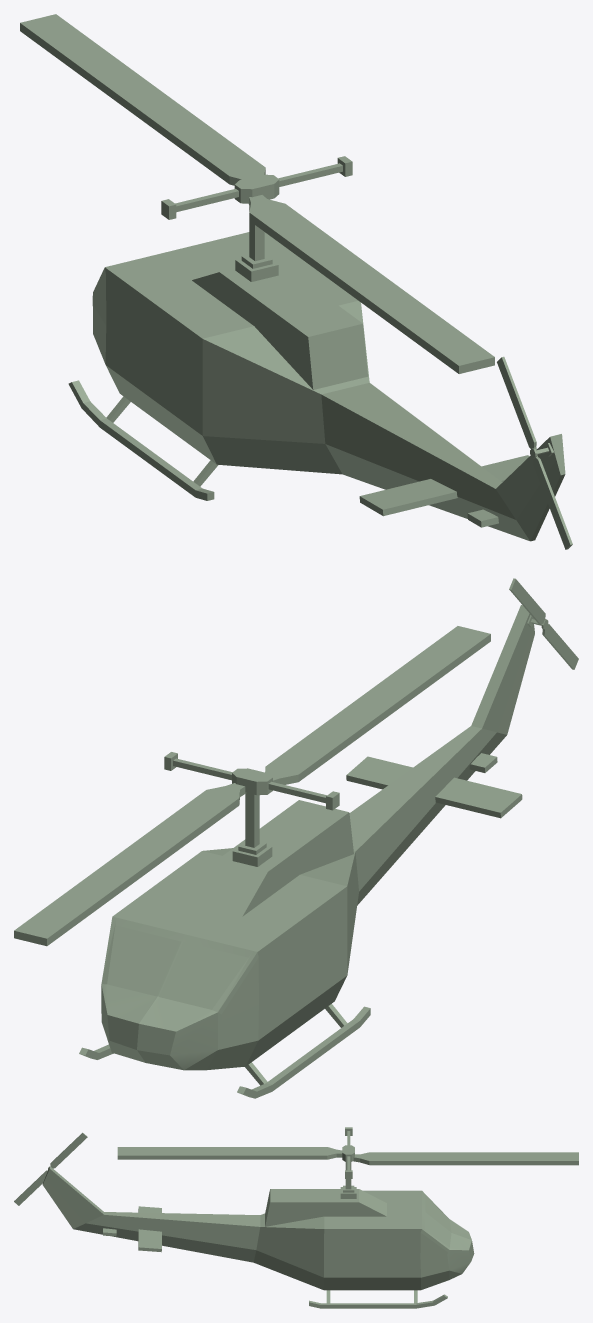
The model's file is small_heli.fbx.
The picture shows the model from 3 angles, top to bottom: view 1: azimuth 30°, elevation 25°; view 2: azimuth 150°, elevation 25°; view 3: azimuth 270°, elevation 25°; orthographic projection. The views are drawn at different scales.
Parts seen in each view (by area): view 1: small_heli, rotor_main, rotor_tail; view 2: small_heli, rotor_main, rotor_tail; view 3: small_heli, rotor_main, rotor_tail.
Part boxes in pixels (box(x1,y1,x2,y2)): small_heli: box(68, 232, 565, 541); rotor_main: box(20, 14, 494, 373); rotor_tail: box(497, 356, 572, 549); small_heli: box(79, 605, 534, 1098); rotor_main: box(14, 626, 490, 946); rotor_tail: box(509, 578, 578, 669); small_heli: box(42, 1166, 474, 1308); rotor_main: box(117, 1127, 578, 1198); rotor_tail: box(14, 1132, 87, 1205).
Size of the model in its own units: 3.6 by 5.59 by 19.2.
